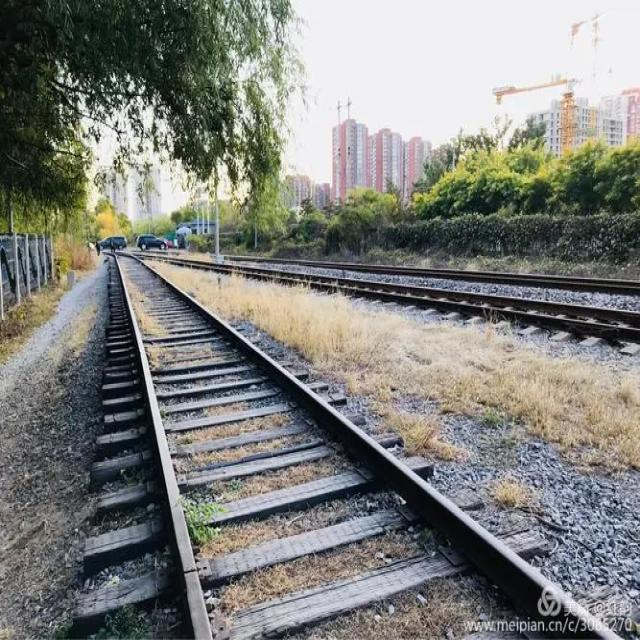vehicle: (132, 230, 172, 252), (97, 236, 128, 255)
